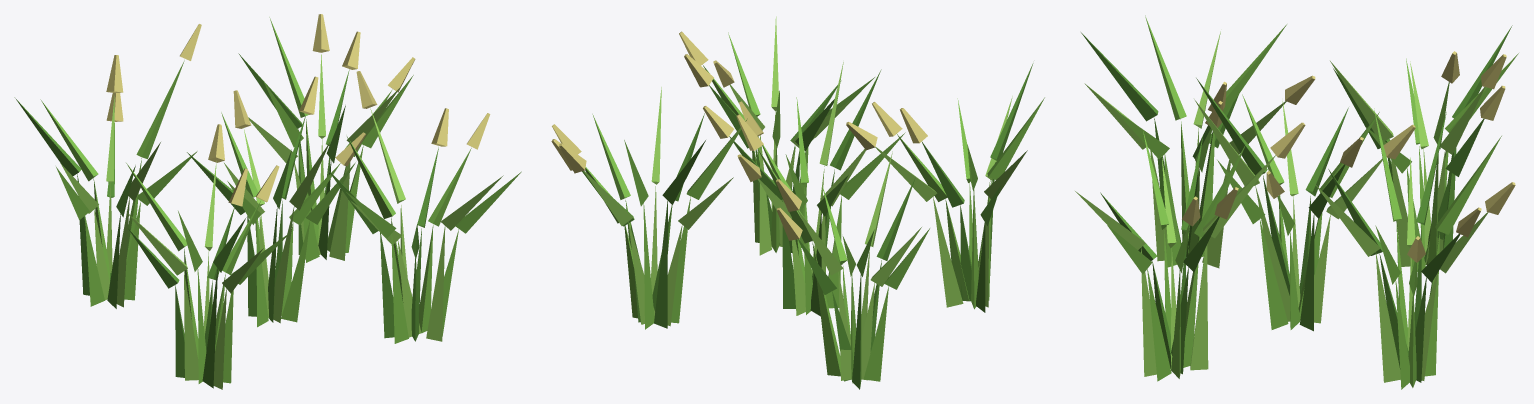
The model's file is grass-4.glb.
The picture shows the model from 3 angles, left to right: view 1: azimuth 30°, elevation 25°; view 2: azimuth 150°, elevation 25°; view 3: azimuth 270°, elevation 25°; orthographic projection. The views are drawn at different scales.
Parts seen in each view (by area): view 1: grass-4; view 2: grass-4; view 3: grass-4.
Boxes of the visible parts, x1=… form: grass-4: x1=14, y1=14, x2=521, y2=389; grass-4: x1=551, y1=16, x2=1044, y2=389; grass-4: x1=1075, y1=15, x2=1518, y2=389.
Size of the model in its own units: 0.8157 by 0.5006 by 0.7462.
1 material, 1 textured.
